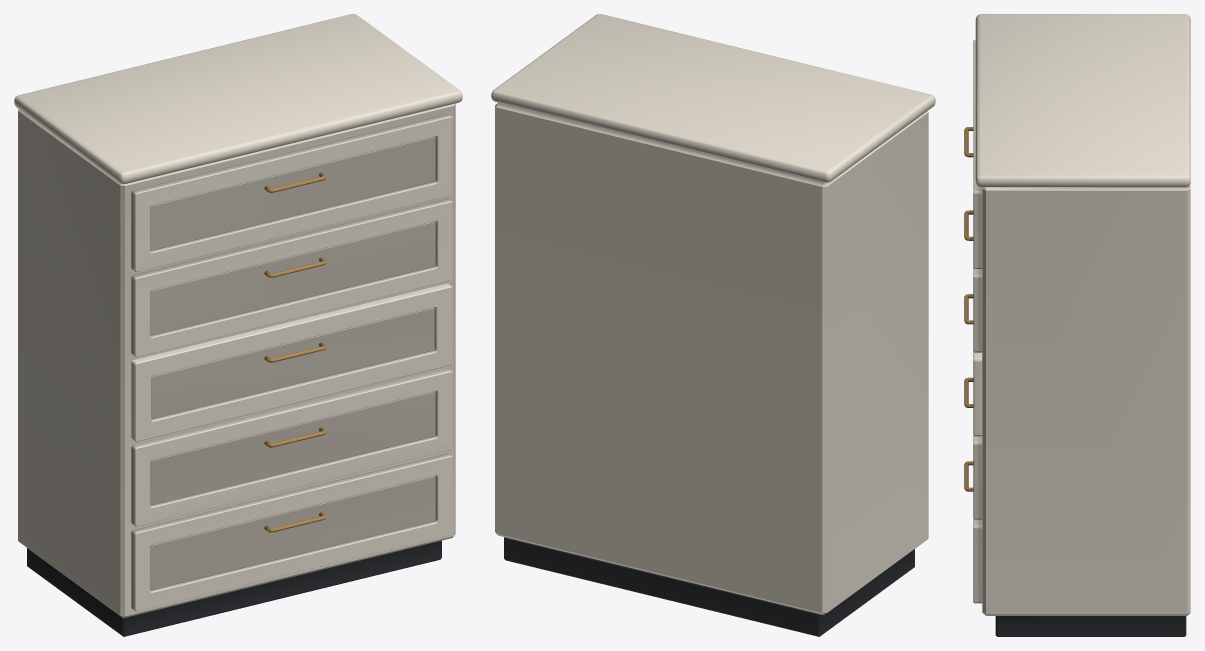
Rendered from chestOfDrawers.glb.
The picture shows the model from 3 angles, left to right: view 1: azimuth 30°, elevation 25°; view 2: azimuth 150°, elevation 25°; view 3: azimuth 270°, elevation 25°; orthographic projection.
Visible parts, largest first — view 1: chestOfDrawers, drawer; view 2: chestOfDrawers; view 3: chestOfDrawers, drawer.
Boxes of the visible parts, bbox=[...] form: chestOfDrawers: bbox=[14, 14, 462, 636]; drawer: bbox=[131, 283, 452, 441]; chestOfDrawers: bbox=[491, 14, 935, 636]; chestOfDrawers: bbox=[964, 14, 1190, 636]; drawer: bbox=[964, 294, 982, 436].
Bounding box in the file's own units: 0.88 × 1.16 × 0.511.
